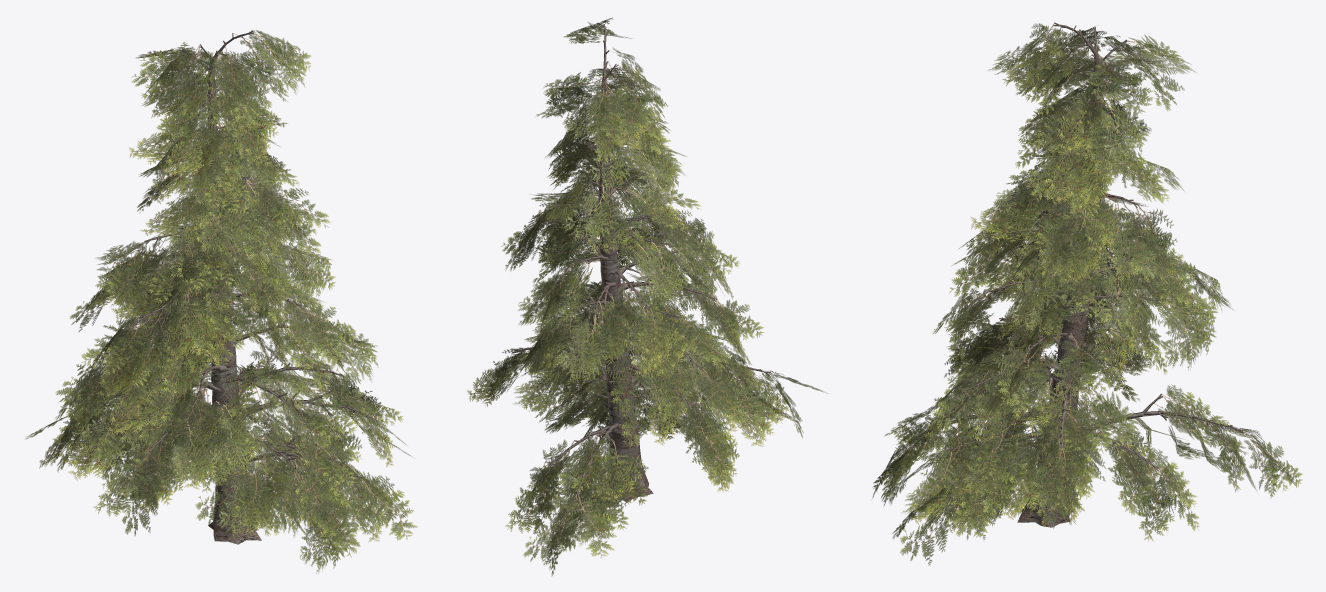
The model's file is conifer.glb.
3 views of the same model, side by side, from view 1: azimuth 30°, elevation 25°; view 2: azimuth 150°, elevation 25°; view 3: azimuth 270°, elevation 25° (orthographic). The views are drawn at different scales.
Parts seen in each view (by area): view 1: Object_7, Object_3, Object_4, Object_6, Object_9, Object_5, Object_8, Object_2; view 2: Object_3, Object_5, Object_7, Object_9, Object_6, Object_4, Object_2, Object_8; view 3: Object_6, Object_3, Object_4, Object_7, Object_5, Object_9, Object_8, Object_2.
Part boxes in pixels (box(x1,y1,x2,y2)): Object_7: box(39, 76, 400, 541); Object_3: box(75, 31, 393, 573); Object_4: box(63, 69, 403, 549); Object_6: box(52, 37, 369, 528); Object_9: box(26, 30, 417, 540); Object_5: box(46, 42, 376, 557); Object_8: box(55, 30, 413, 536); Object_2: box(87, 30, 361, 544); Object_3: box(513, 22, 761, 554); Object_5: box(501, 62, 788, 494); Object_7: box(467, 86, 799, 502); Object_9: box(479, 17, 783, 557); Object_6: box(505, 70, 827, 537); Object_4: box(495, 79, 763, 575); Object_2: box(512, 24, 770, 502); Object_8: box(492, 31, 803, 565); Object_6: box(924, 27, 1248, 541); Object_3: box(881, 26, 1256, 520); Object_4: box(872, 50, 1302, 537); Object_7: box(908, 57, 1182, 536); Object_5: box(872, 44, 1217, 523); Object_9: box(882, 23, 1268, 539); Object_8: box(890, 26, 1297, 565); Object_2: box(912, 22, 1244, 527).
Size of the model in its own units: 8.7 by 12.07 by 9.35.
Materials: 8 (8 with a texture image).
